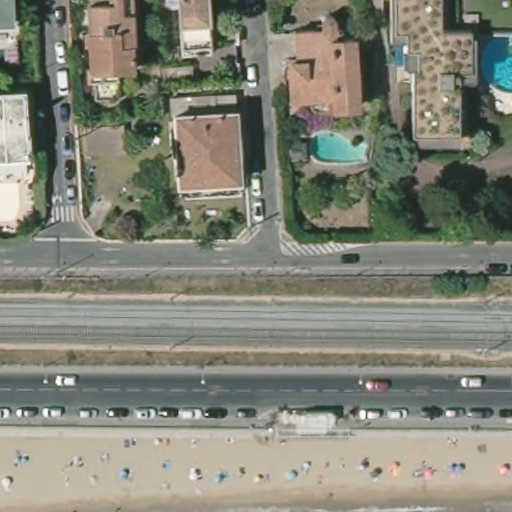pool: (303, 129, 371, 169), (479, 34, 512, 101)
